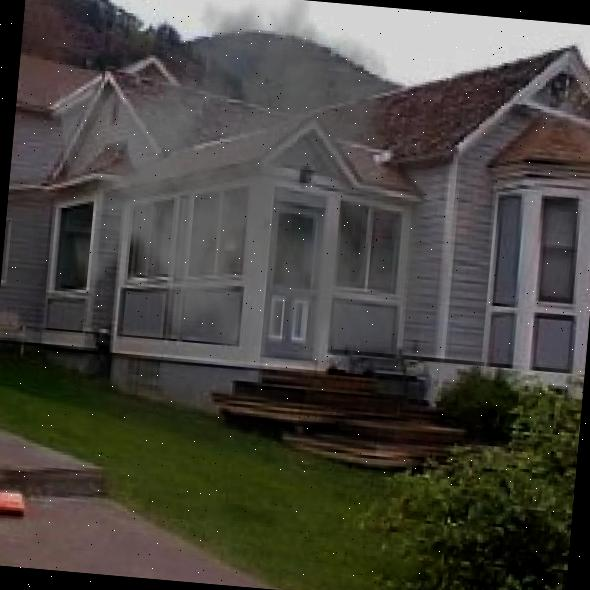smoke: (158, 57, 393, 275)
